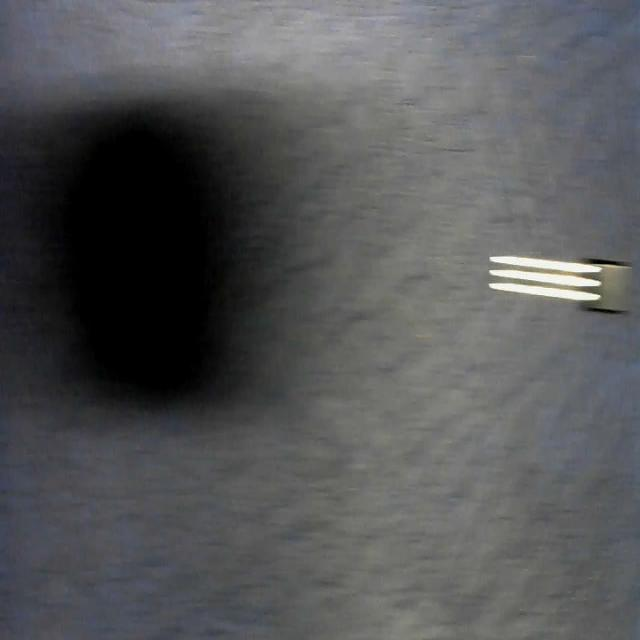BJT: (489, 242, 638, 323)
